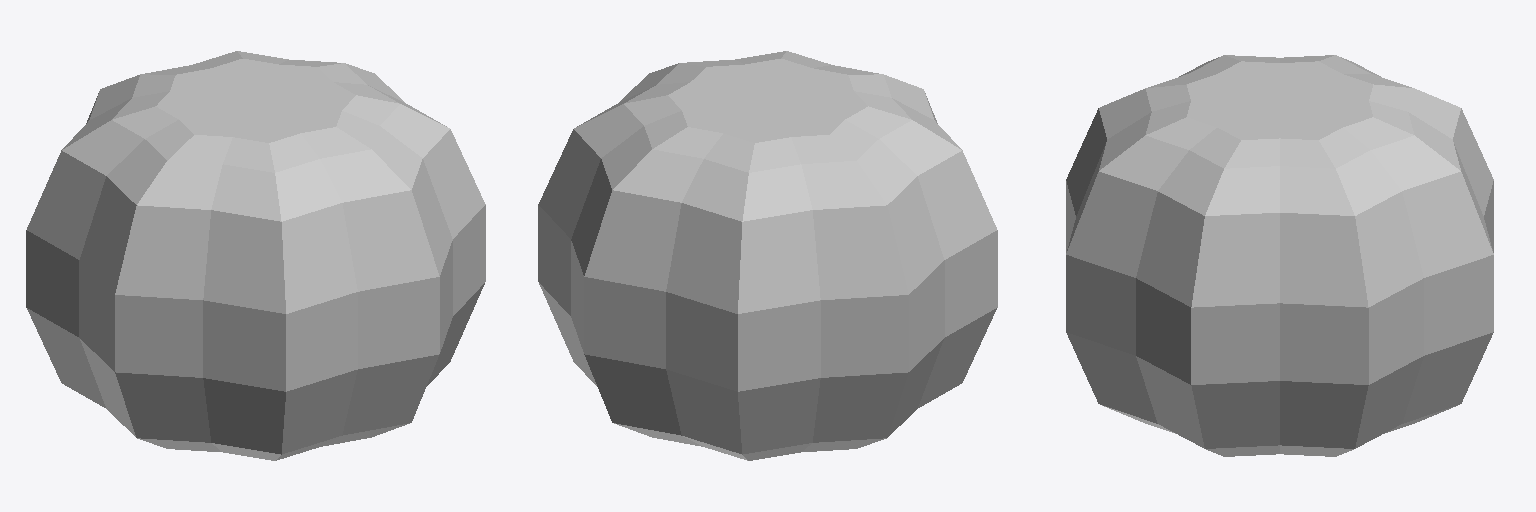
Rendered from Prop_Bush_1.obj.
The picture shows the model from 3 angles: view 1: azimuth 30°, elevation 25°; view 2: azimuth 150°, elevation 25°; view 3: azimuth 270°, elevation 25°; orthographic projection.
Visible parts, largest first — view 1: object1; view 2: object1; view 3: object1.
Boxes of the visible parts, x1,y1,x2,y2 form: object1: [26, 51, 485, 460]; object1: [538, 51, 997, 460]; object1: [1066, 55, 1493, 456].
Bounding box in the file's own units: 0.9372 × 0.75 × 0.9372.